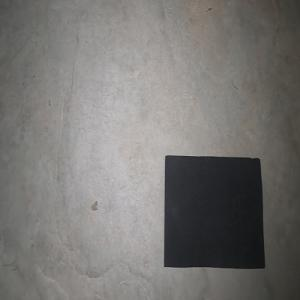PaintChip: (163, 155, 265, 269)
